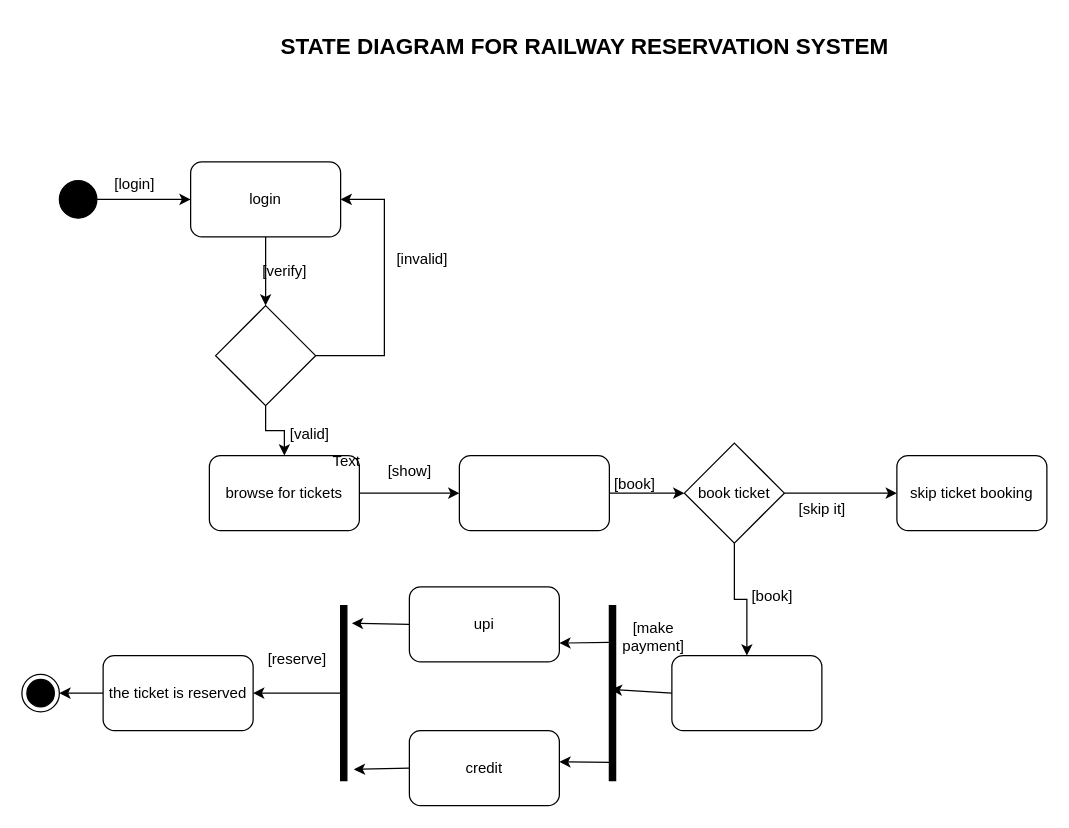
Image size: 1069x828. Some labels were removed from this diagram. The centre of each missing label's shape, as x and y in pixels:
"book ticket and make payment" belongs at (746,692).
"show all available tickets" belongs at (533,492).
"verify the login" belongs at (265,355).
